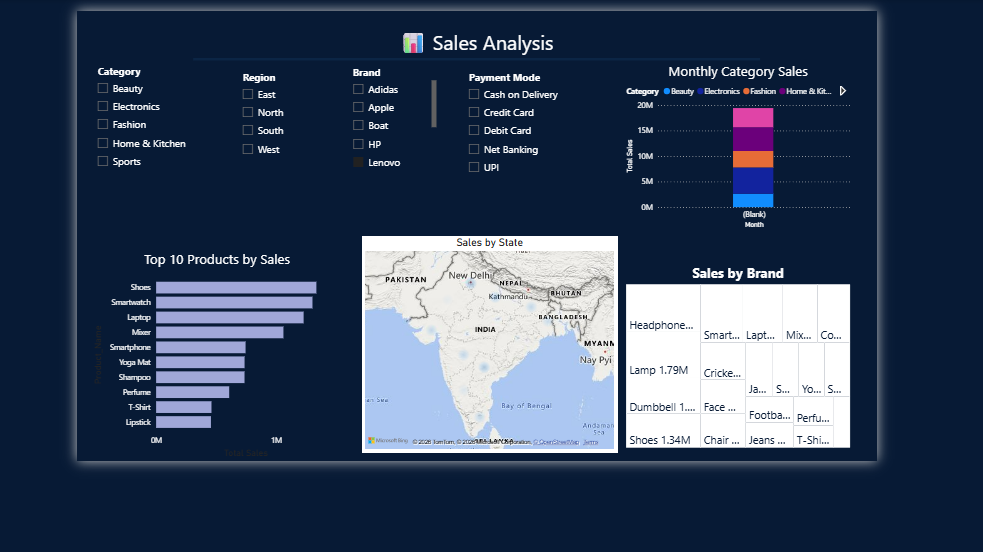

The dashboard page shown, as its layout file describes it:
{"tool":"powerbi","page":{"name":"Sales Analysis","canvas":[1280,720],"ordinal":1},"visuals":[{"type":"shape","title":"📊 Sales Analysis","box":[186.1,27.8,907,51.3],"z":0},{"type":"slicer","fields":{"Values":["Fact_Sales.Category"]},"box":[19.3,79.1,205.4,181.8],"z":1000},{"type":"slicer","fields":{"Values":["Fact_Sales.Region"]},"box":[252.4,89.8,139,160.4],"z":2000},{"type":"slicer","fields":{"Values":["Fact_Sales.Payment Mode"]},"box":[613.9,89.8,177.5,201.1],"z":3000},{"type":"slicer","fields":{"Values":["Fact_Sales.Brand"]},"box":[427.8,81.3,151.9,181.8],"z":4000},{"type":"clusteredBarChart","title":"Top 10 Products by Sales","fields":{"Category":["Fact_Sales.Product_Name"],"Y":["Fact_Sales.Total Sales"]},"box":[19.3,382.9,408.6,338],"z":5000},{"type":"map","title":"Sales by State","fields":{"Category":["Fact_Sales.State"],"Size":["Fact_Sales.Total Sales"]},"box":[455.6,359.4,408.6,346.5],"z":6000},{"type":"columnChart","title":"Monthly Category Sales","fields":{"Series":["Fact_Sales.Category"],"Category":["Dim_Date.Month"],"Y":["Fact_Sales.Total Sales"]},"box":[874.9,79.1,367.9,273.8],"z":7000},{"type":"treemap","title":"Sales by Brand","fields":{"Values":["Fact_Sales.Total Sales"],"Group":["Fact_Sales.Brand"],"Details":["Fact_Sales.Product_Name"]},"box":[874.9,404.3,367.9,299.5],"z":8000}]}

Visuals, with their boxes in screenshot pixels (x1, y1, x2, y2), scaled from the page's 1280x720 canvas onto the 983x552 screenshot:
"📊 Sales Analysis" shape: [143, 21, 839, 61]
slicer - Fact_Sales.Category: [15, 61, 173, 200]
slicer - Fact_Sales.Region: [194, 69, 301, 192]
slicer - Fact_Sales.Payment Mode: [471, 69, 608, 223]
slicer - Fact_Sales.Brand: [329, 62, 445, 202]
"Top 10 Products by Sales" clusteredBarChart: [15, 294, 329, 551]
"Sales by State" map: [350, 276, 664, 541]
"Monthly Category Sales" columnChart: [672, 61, 954, 271]
"Sales by Brand" treemap: [672, 310, 954, 540]
